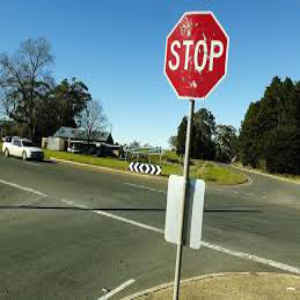STOP_SIGN: (163, 10, 229, 100)
